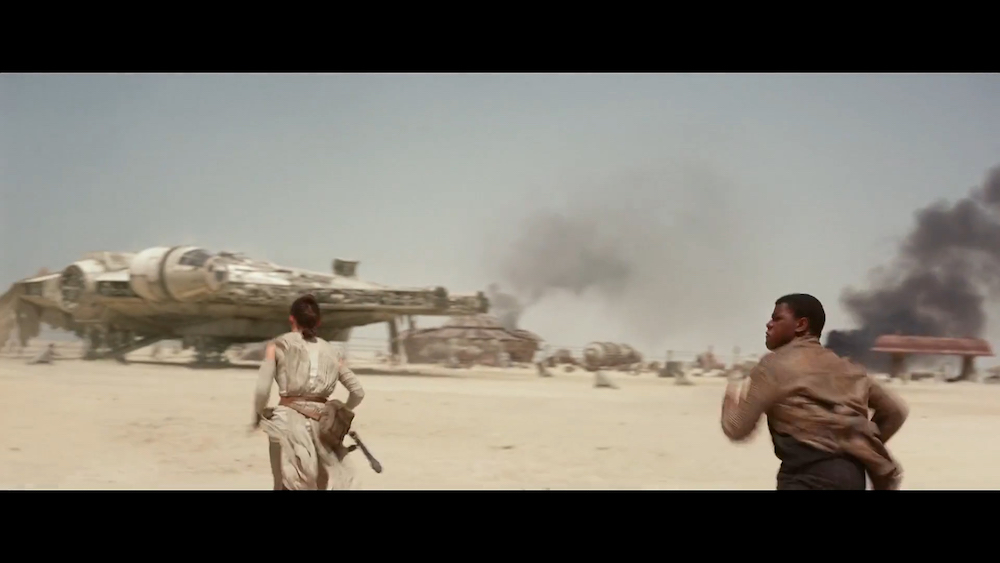Millennium Falcon: (21, 245, 489, 347)
